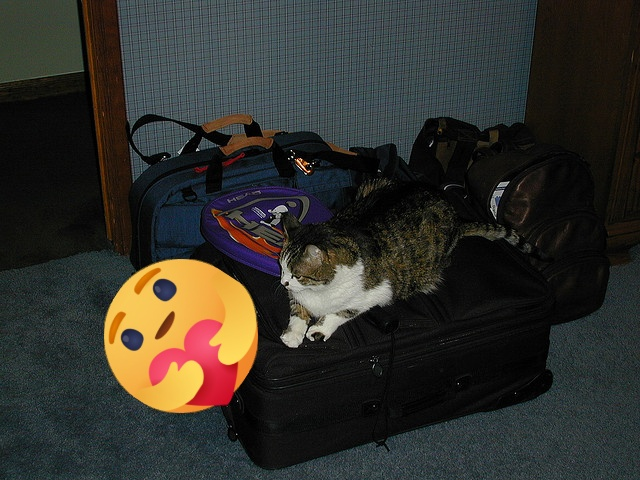care: (104, 259, 258, 413)
